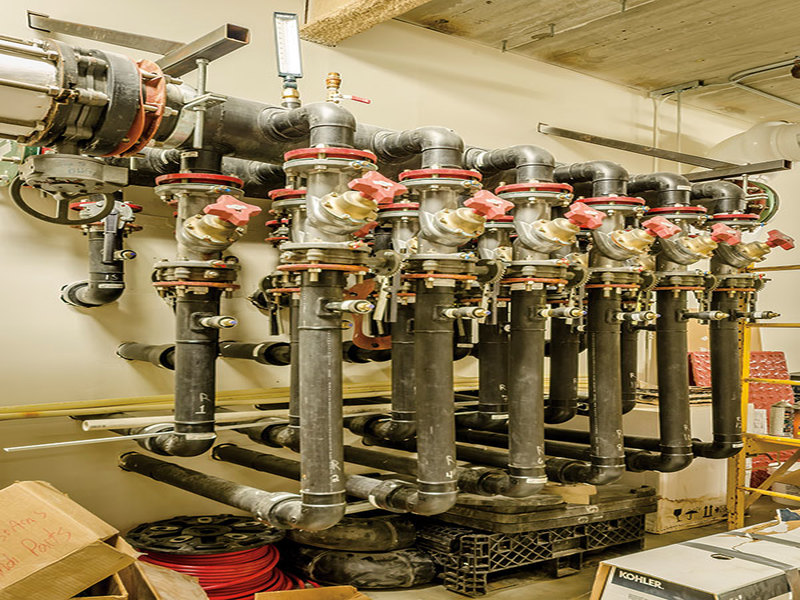valve: (324, 88, 381, 110)
